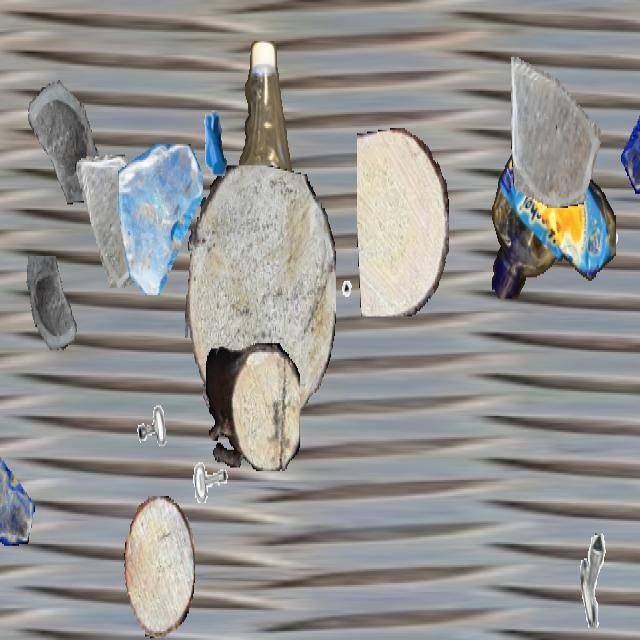glass: (511, 48, 601, 208), (118, 144, 202, 293), (18, 57, 100, 203), (74, 155, 148, 286), (23, 256, 85, 366), (0, 441, 34, 544), (620, 75, 640, 192)
metal: (123, 347, 183, 453), (186, 91, 242, 190), (580, 532, 634, 628), (190, 453, 236, 535), (582, 178, 622, 249), (338, 278, 378, 348)
plastic: (218, 41, 300, 393), (490, 137, 616, 297)
wood: (185, 166, 335, 436), (357, 128, 449, 316), (206, 343, 300, 471), (124, 496, 194, 638)
